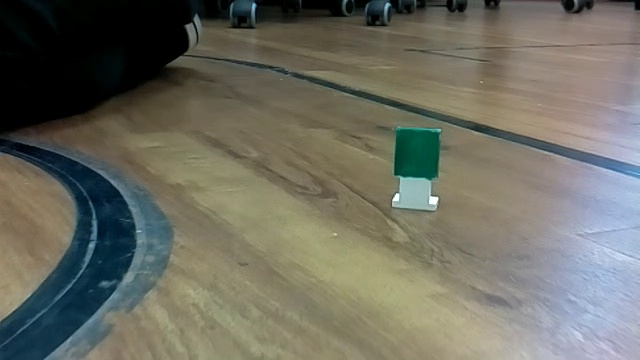rect: (379, 121, 453, 214)
